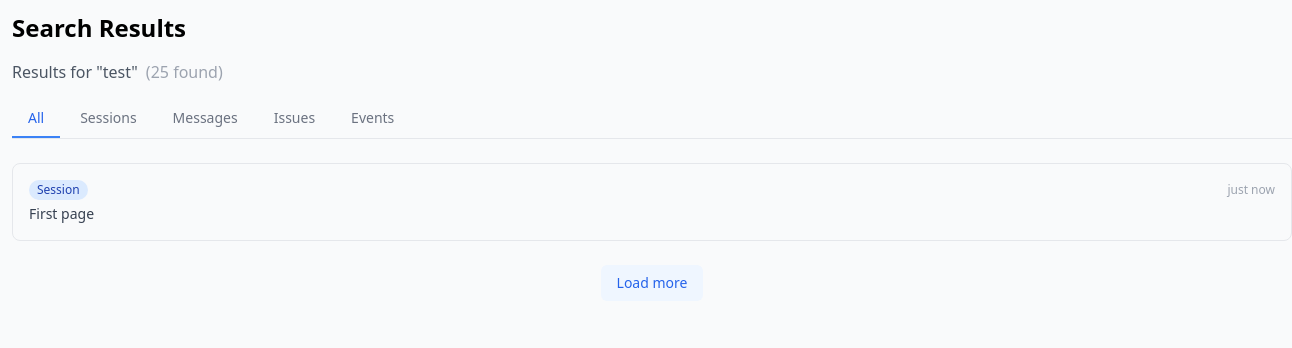
Scenario: SearchPage › shows Load more button when has_more is true
Click the button with test id "load-more".
click(652, 283)  # box [601,265,704,301]
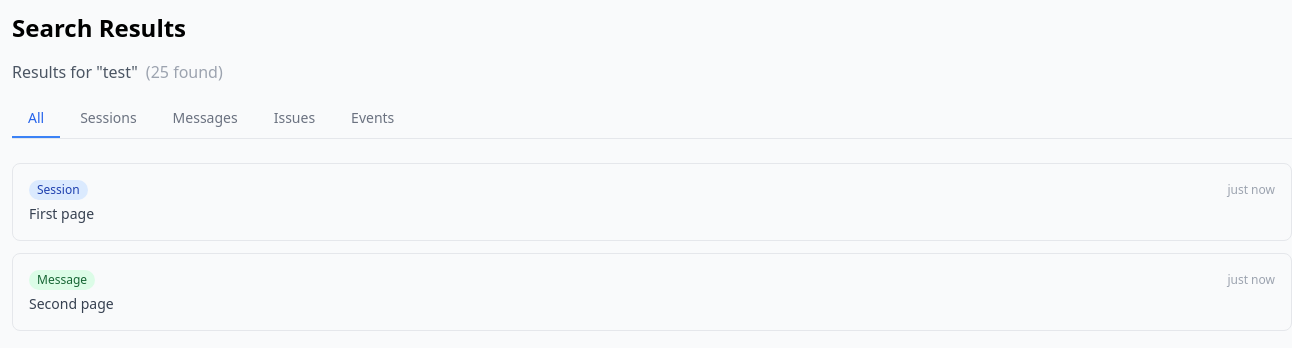
expect the text "First page" is shown: met, box [29,204,94,223]
expect the text "Second page" is shown: met, box [29,294,114,313]
